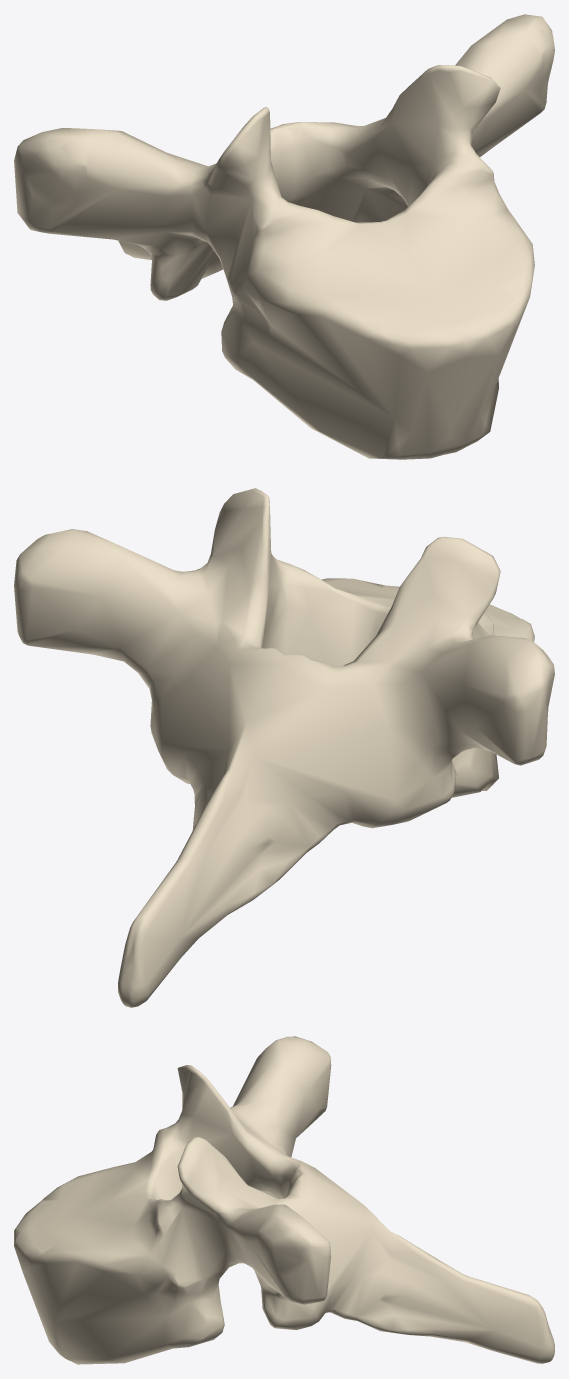
The model's file is vertebra-t3.glb.
3 renders of one model, top to bottom at view 1: azimuth 30°, elevation 25°; view 2: azimuth 150°, elevation 25°; view 3: azimuth 270°, elevation 25°, orthographic. The views are drawn at different scales.
Visible parts, largest first — view 1: Vertebra T3; view 2: Vertebra T3; view 3: Vertebra T3.
Boxes of the visible parts, left/top/right/bottom form: Vertebra T3: left=14, top=14, right=554, bottom=459; Vertebra T3: left=14, top=488, right=554, bottom=1007; Vertebra T3: left=14, top=1036, right=554, bottom=1364.
Bounding box in the file's own units: 0.0689 × 0.0413 × 0.0778.
